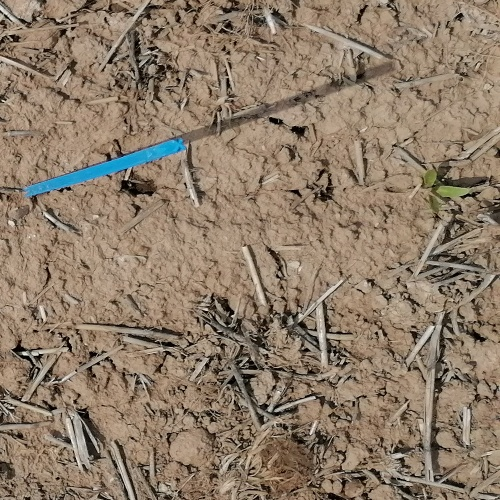beet: (423, 171, 469, 215)
